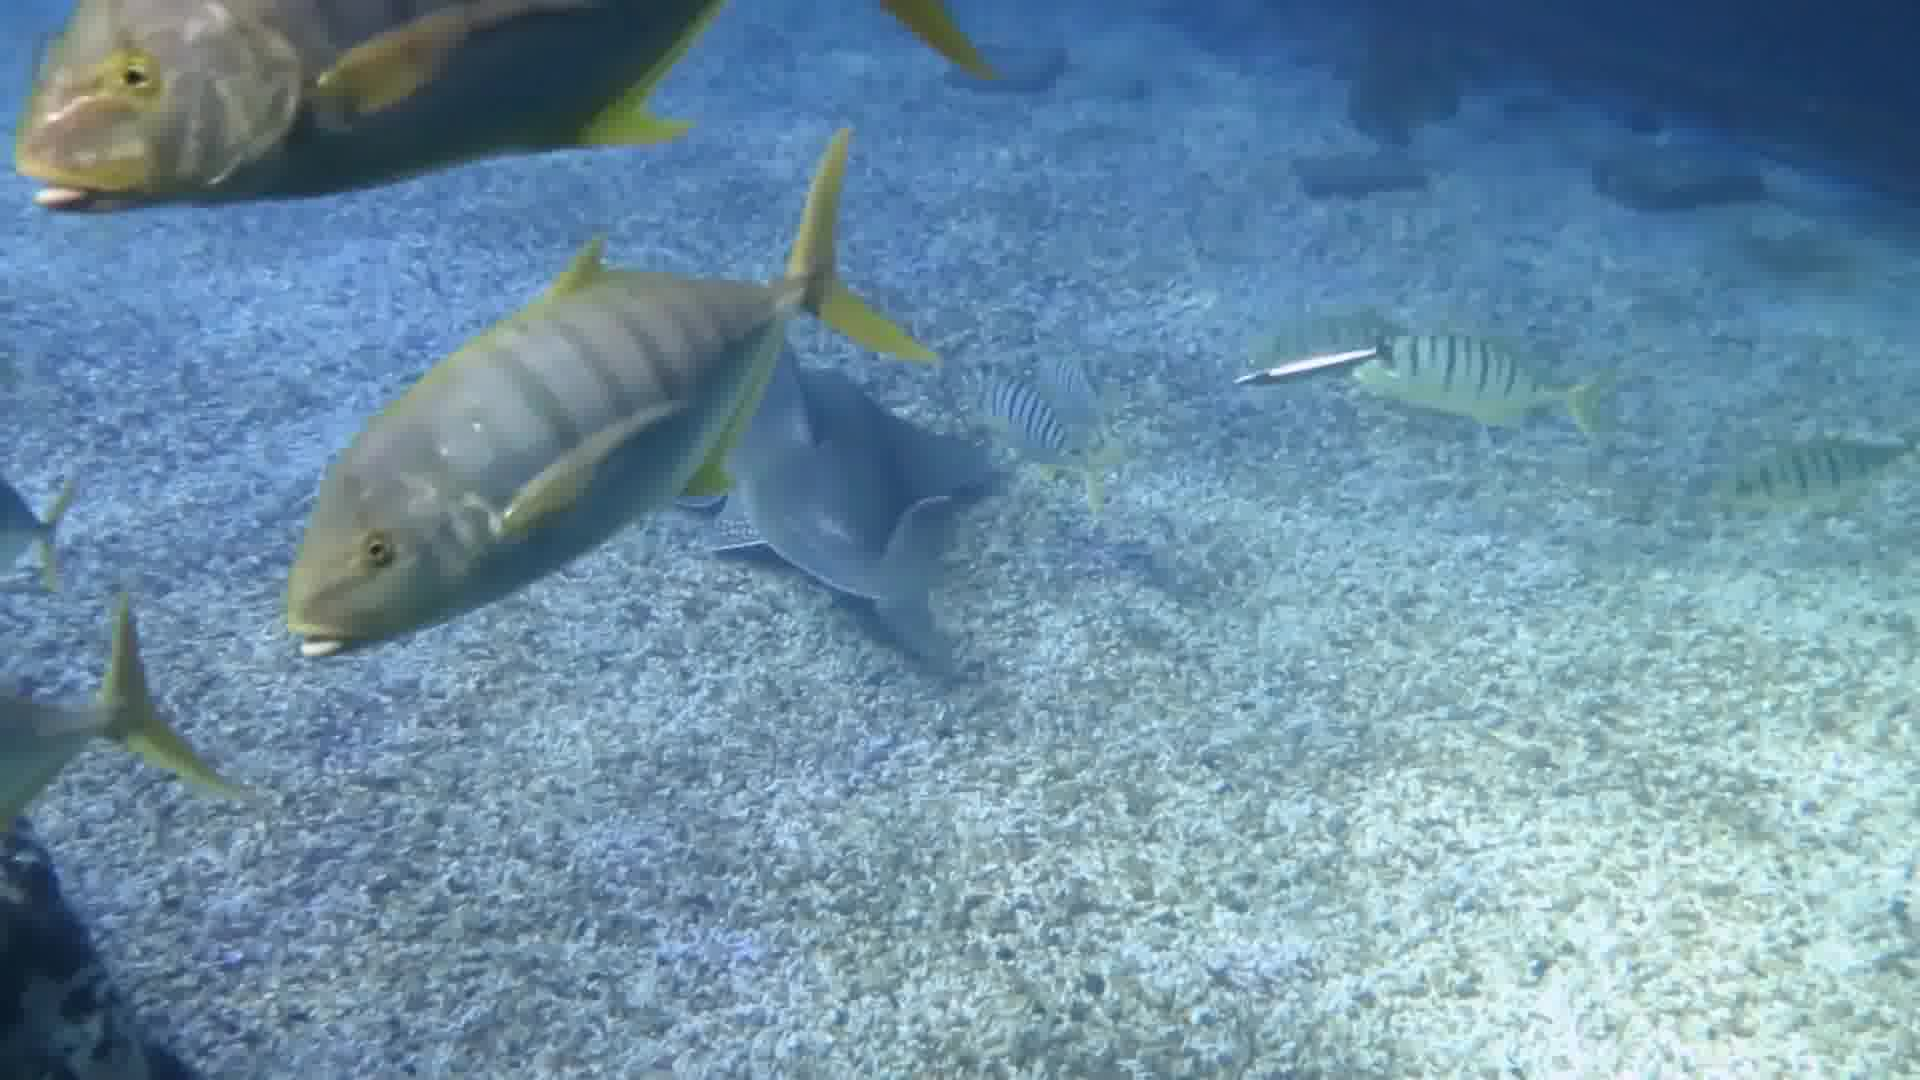Rhychobatus djiddensis: (736, 328, 1004, 671)
